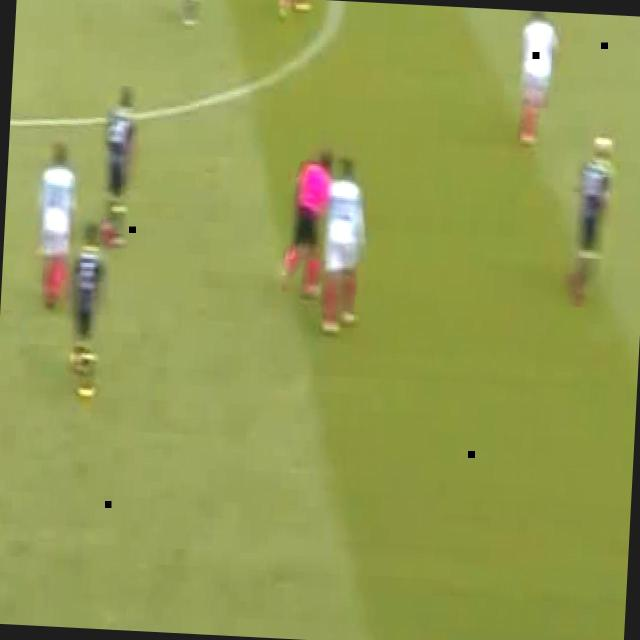player-white: (320, 160, 369, 332), (281, 152, 333, 302), (33, 143, 77, 311), (65, 224, 107, 398), (572, 133, 614, 305), (99, 84, 139, 250), (517, 10, 559, 150), (278, 0, 317, 20), (177, 0, 201, 26)
